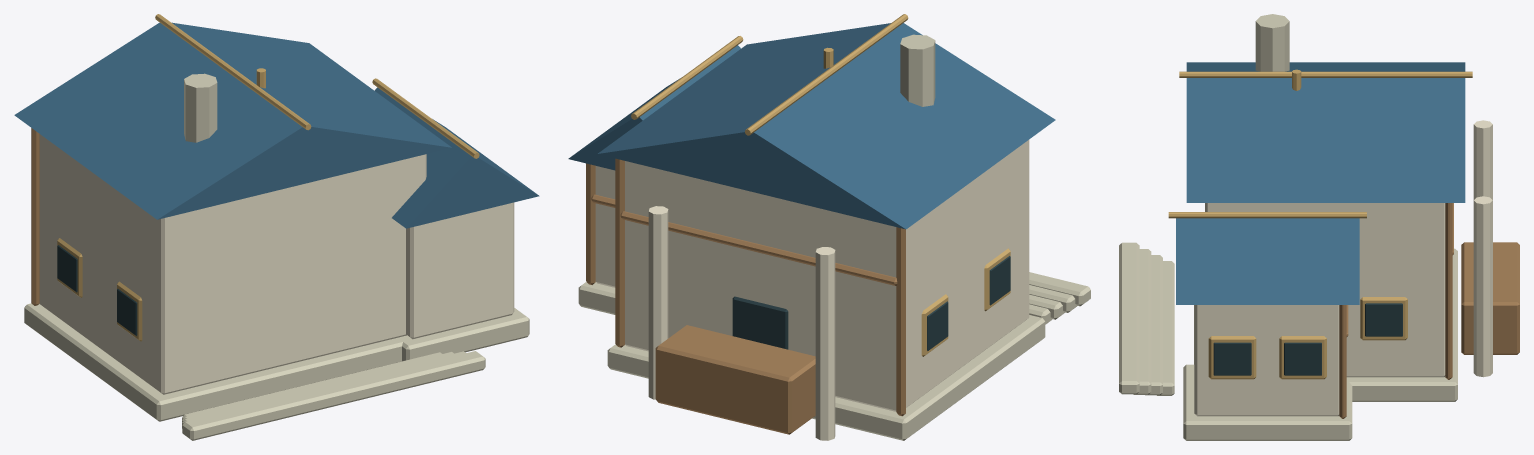
Rendered from level_26.glb.
The picture shows the model from 3 angles, left to right: view 1: azimuth 30°, elevation 25°; view 2: azimuth 150°, elevation 25°; view 3: azimuth 270°, elevation 25°; orthographic projection. The views are drawn at different scales.
Parts seen in each view (by area): view 1: workshop — level 26; view 2: workshop — level 26; view 3: workshop — level 26.
Part boxes in pixels (bbox=[...]): workshop — level 26: bbox=[14, 14, 539, 440]; workshop — level 26: bbox=[568, 14, 1090, 440]; workshop — level 26: bbox=[1119, 14, 1519, 440].
Bounding box in the file's own units: 5.8 × 4.3 × 5.46.
